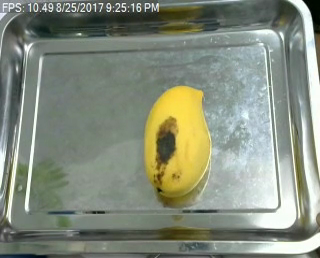Mango: (142, 84, 214, 196)
